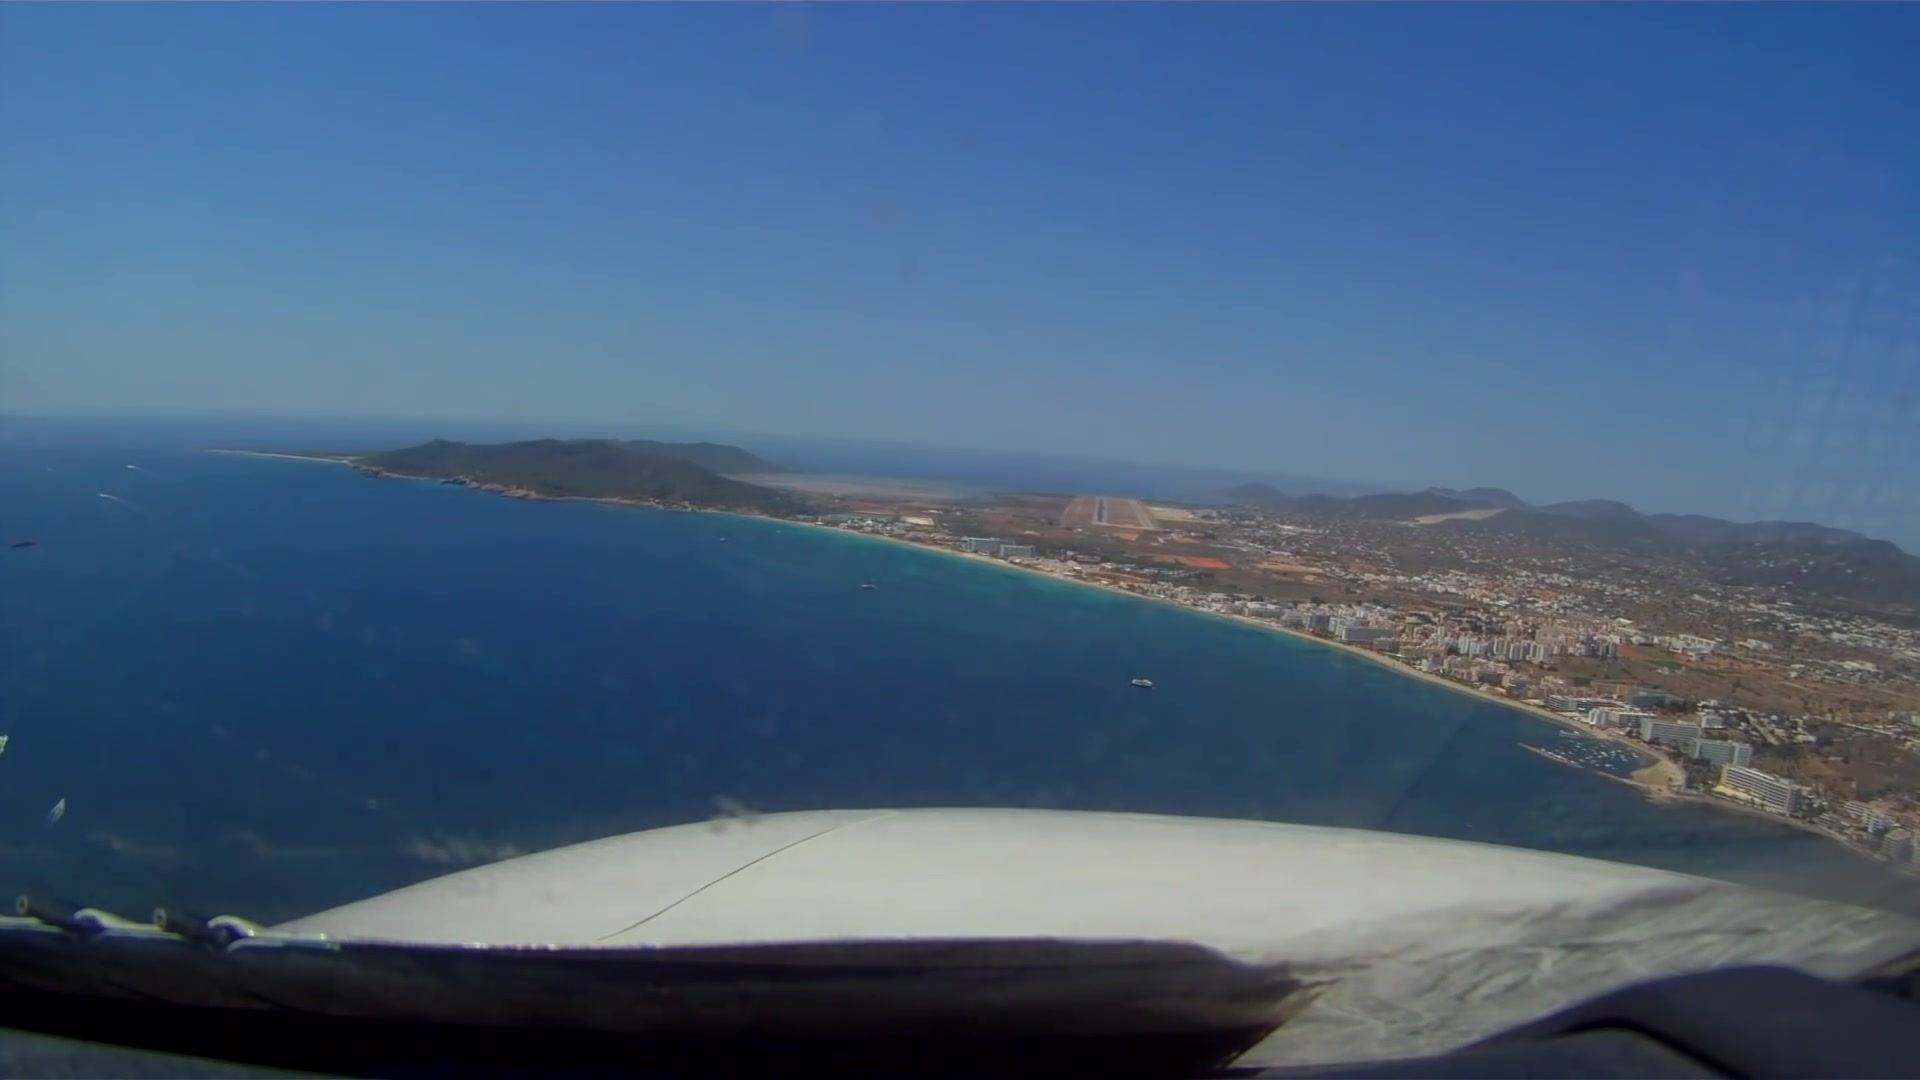runway: (1129, 496, 1156, 531), (1091, 495, 1108, 526)
